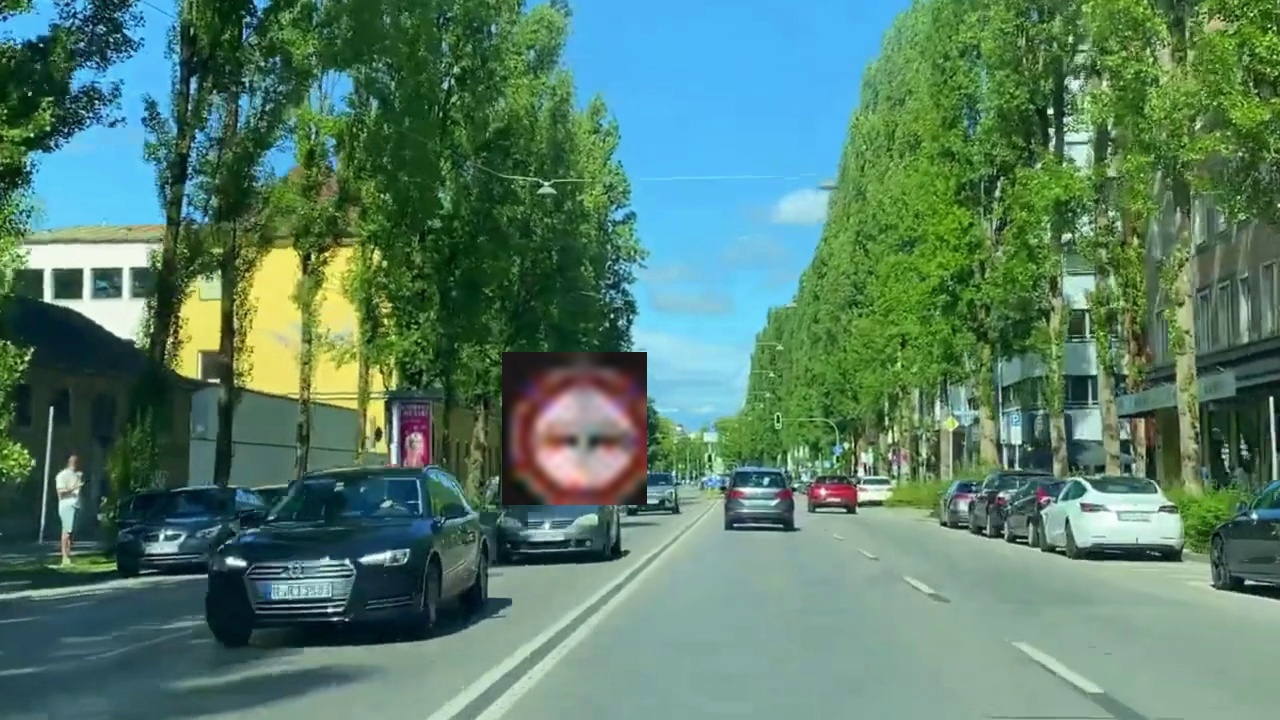No passing: (502, 352, 647, 505)
